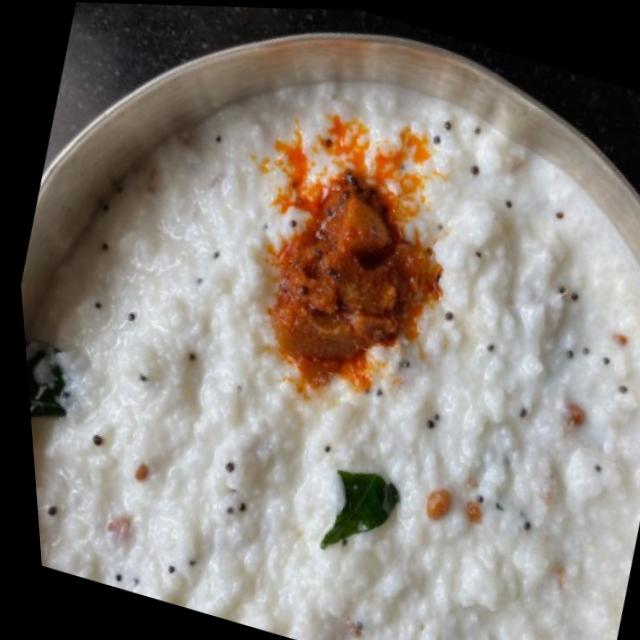CURD RICE: (24, 81, 640, 640)
